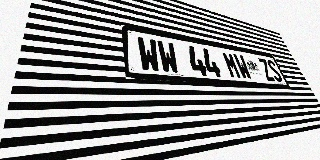4: (185, 45, 208, 76), (200, 48, 222, 77)
M: (221, 51, 242, 79)
S: (265, 59, 284, 82)
W: (136, 36, 162, 73), (156, 40, 180, 74), (232, 53, 253, 80)
Z: (257, 58, 276, 82)
